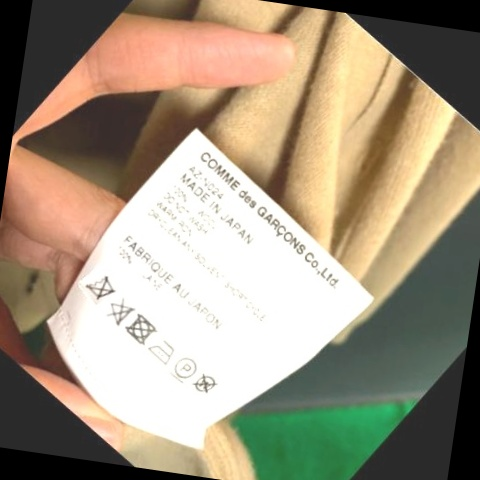DN_bleach: (105, 294, 137, 328)
DN_tumble_dry: (126, 315, 161, 347)
DN_wash: (84, 268, 118, 305)
DN_wet_clean: (192, 370, 221, 397)
dry_clean_any_solvent_except_trichloroethylene: (171, 352, 202, 386)
iron_medium: (144, 335, 180, 369)
